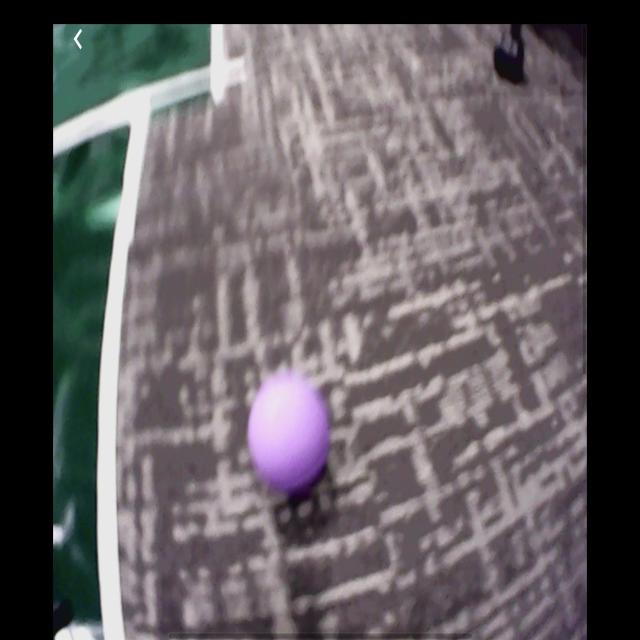ball: (249, 376, 327, 484)
